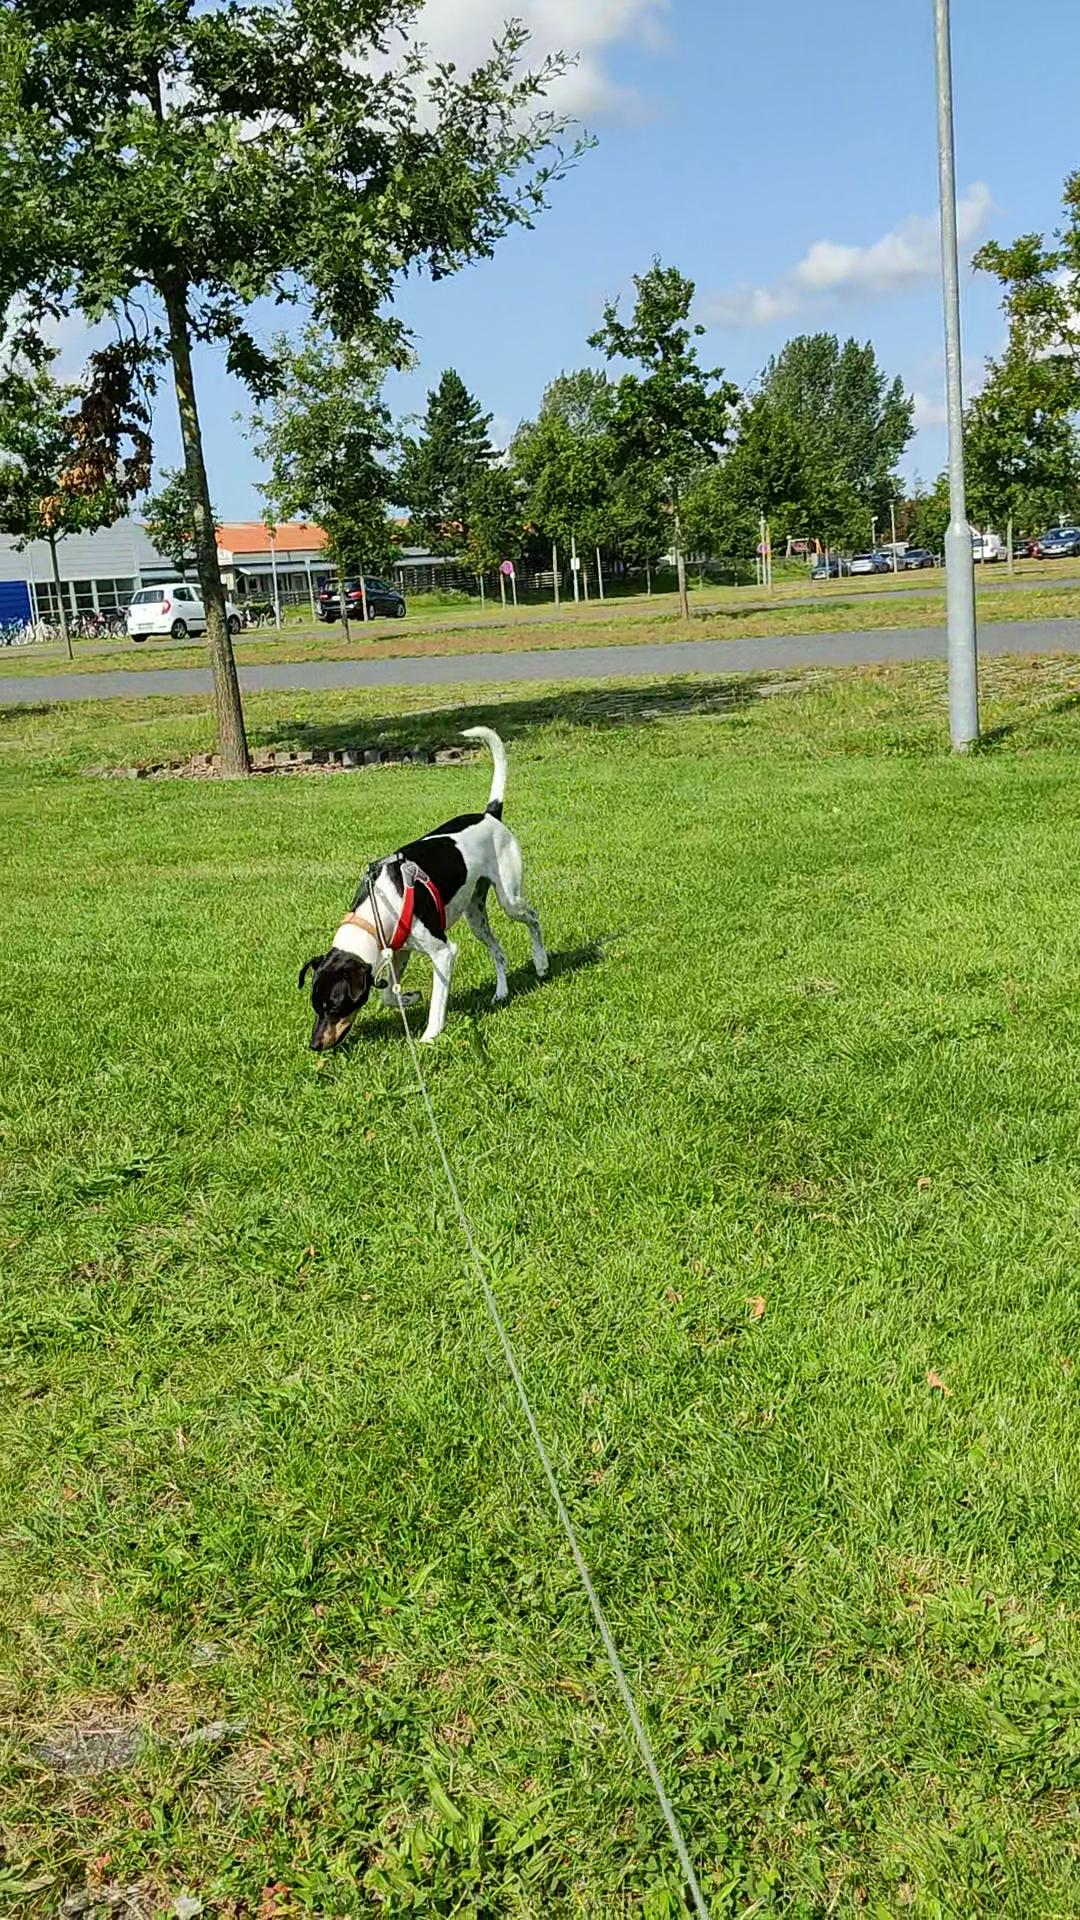Dog: (290, 723, 554, 1065)
